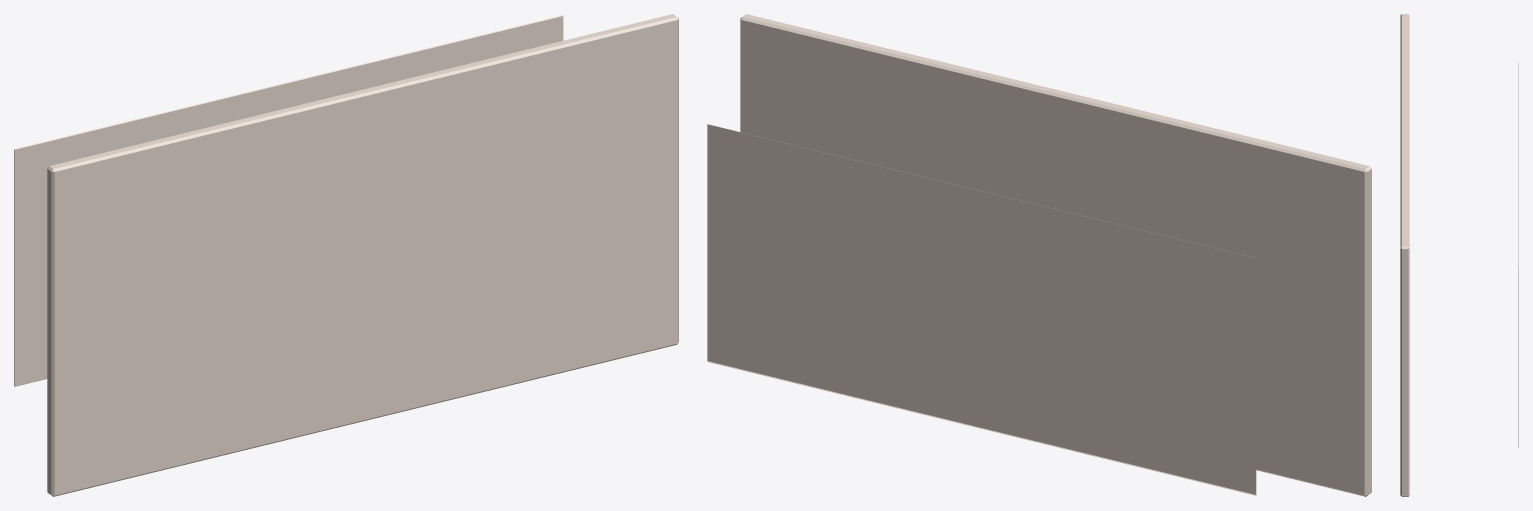
The model's file is MeshDiningTable_023_0_GeomSubset_0.obj.
The picture shows the model from 3 angles, left to right: view 1: azimuth 30°, elevation 25°; view 2: azimuth 150°, elevation 25°; view 3: azimuth 270°, elevation 25°; orthographic projection. The views are drawn at different scales.
Parts seen in each view (by area): view 1: MeshDiningTable_023_0_GeomSubset_0; view 2: MeshDiningTable_023_0_GeomSubset_0; view 3: MeshDiningTable_023_0_GeomSubset_0.
Part boxes in pixels (x1=…): MeshDiningTable_023_0_GeomSubset_0: x1=14, y1=14, x2=678, y2=496; MeshDiningTable_023_0_GeomSubset_0: x1=707, y1=14, x2=1371, y2=496; MeshDiningTable_023_0_GeomSubset_0: x1=1400, y1=14, x2=1518, y2=496.
Size of the model in its own units: 1.84 by 0.921 by 0.3952.
